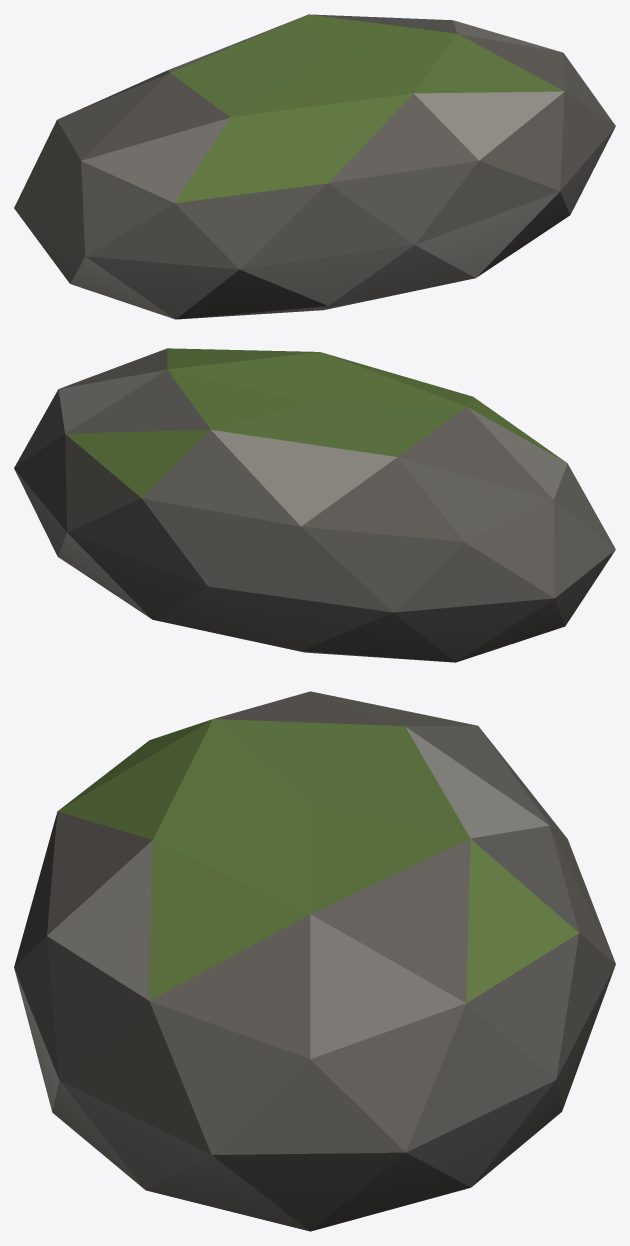
The model's file is tiger_rock_low.glb.
3 renders of one model, top to bottom at view 1: azimuth 30°, elevation 25°; view 2: azimuth 150°, elevation 25°; view 3: azimuth 270°, elevation 25°, orthographic. The views are drawn at different scales.
Size of the model in its own units: 2.83 by 0.9869 by 1.83.
